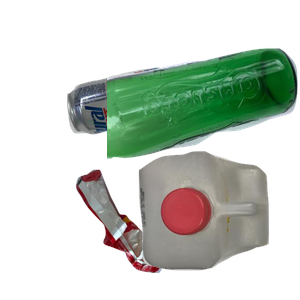glass: (107, 46, 300, 197)
metal: (65, 65, 231, 192)
plastic: (136, 149, 300, 300)
trash: (74, 167, 235, 300)
